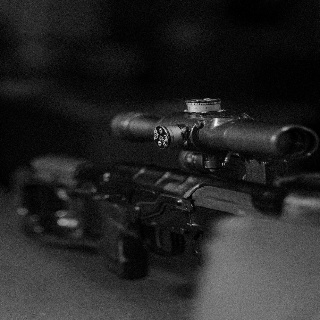rifle: (16, 94, 320, 281)
